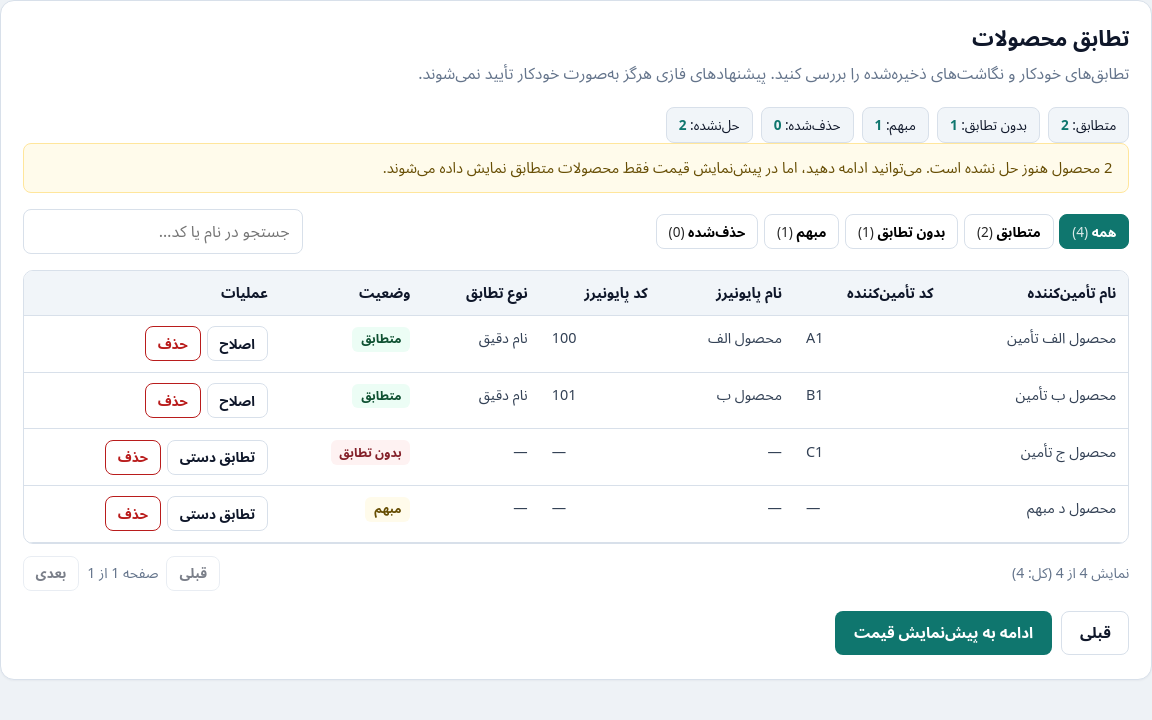
MatchingStep › shows confirm-mapping API errors
The width and height of the screenshot is (1152, 720).
Expected: the text "محصول ج تأمین" is shown, [946,429,1128,486]
Click the button "تطابق دستی" in the row of "محصول ج تأمین" at (217, 457), box [167,440,268,475]
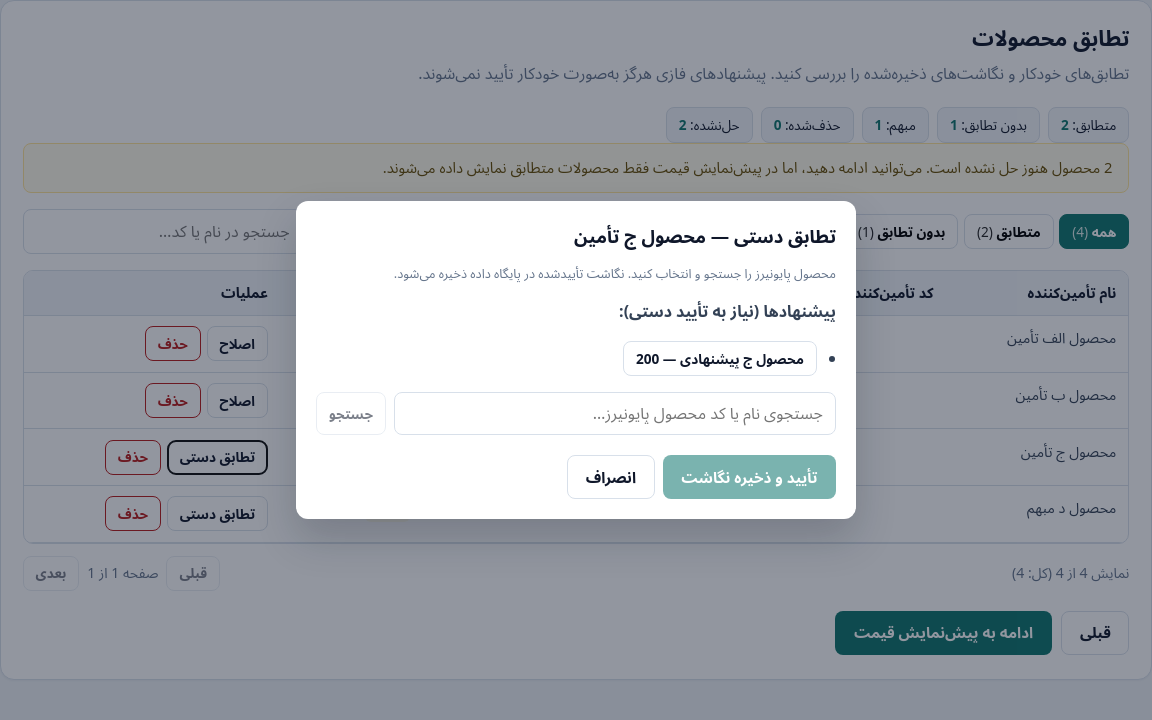
Click the button "محصول ج پیشنهادی — 200" at (720, 358), box [623,341,817,376]
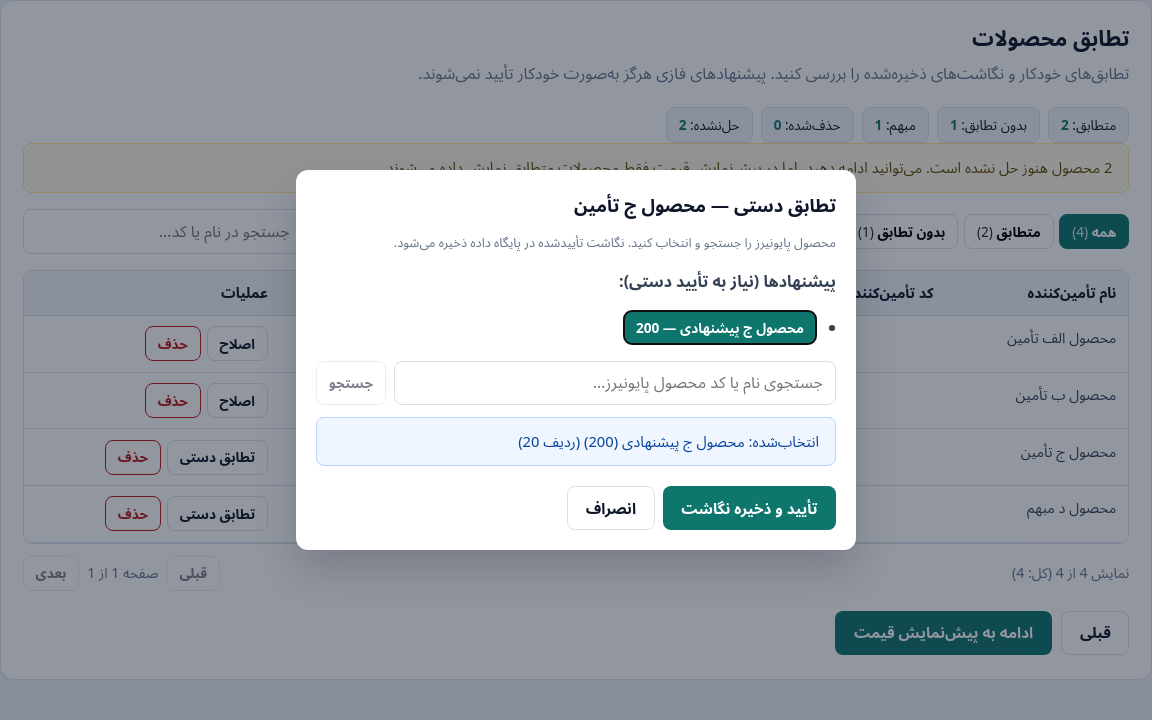
Click the button "تأیید و ذخیره نگاشت" at (749, 508), box [663,486,836,530]
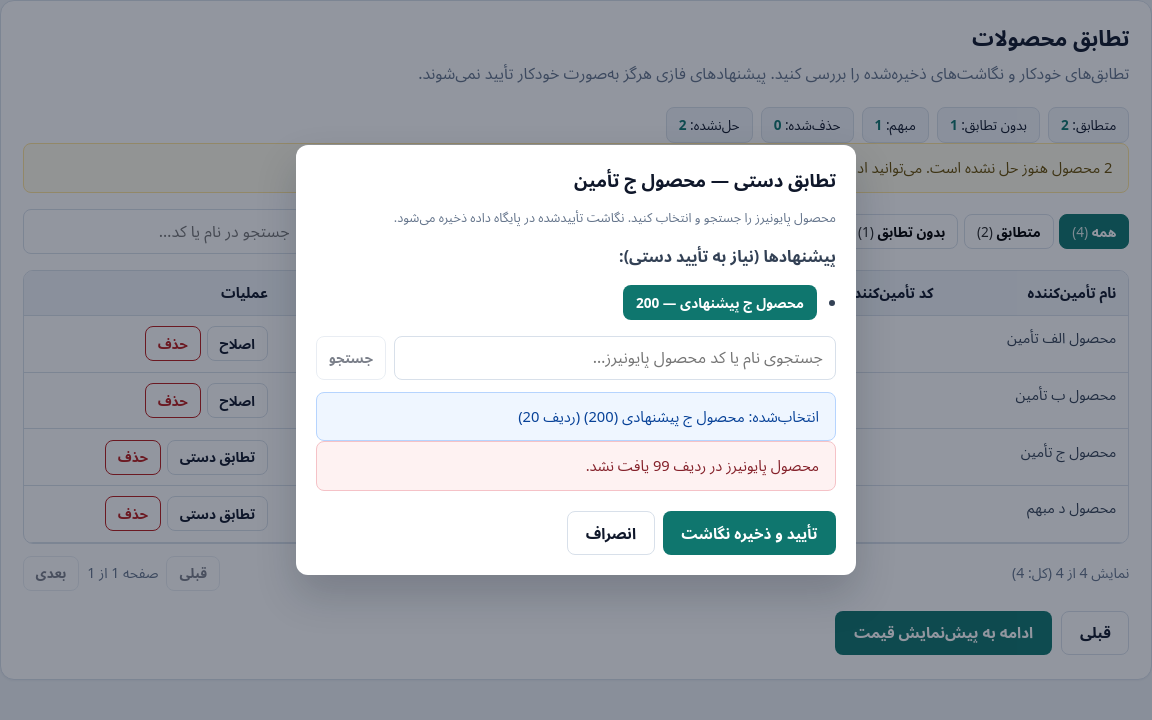
Now the text "محصول پایونیرز در ردیف 99 یافت نشد." is shown, box [316,442,836,491]
